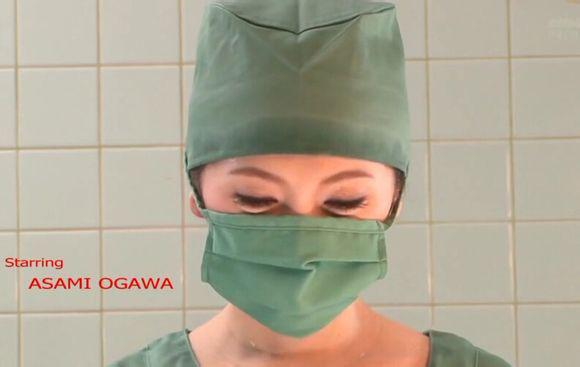OK: (208, 156, 390, 338)
